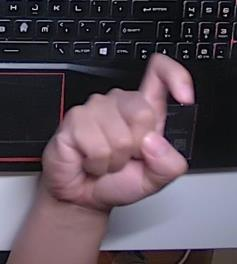anticlockwise: (36, 48, 197, 210)
